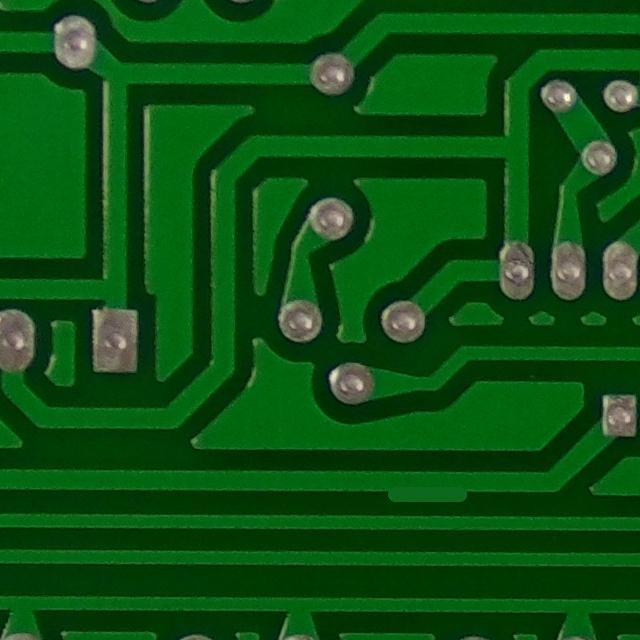spur: (375, 461, 484, 514)
